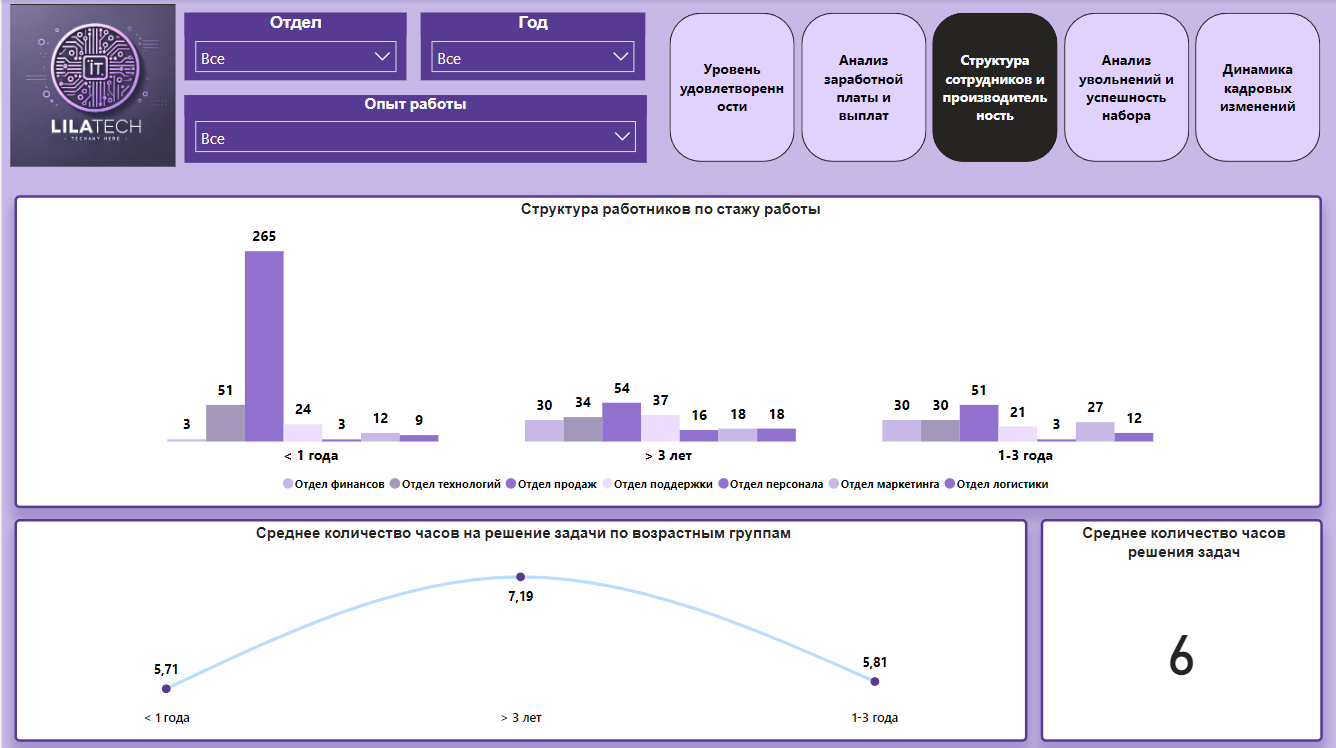

The page's visual inventory and layout, read from the dashboard file:
{"tool":"powerbi","page":{"name":"Структура сотрудников и производительность","canvas":[1280,720],"ordinal":2},"visuals":[{"type":"clusteredColumnChart","title":"Структура работников по стажу работы","fields":{"Category":["WorkExp.work experience"],"Y":["Sum(WorkExp.Quantity of pers)"],"Series":["WorkExp.Dept"]},"box":[12.5,188.8,1253.8,300],"z":0},{"type":"lineChart","title":"Среднее количество часов на решение задачи по возрастным группам","fields":{"Y2":["Avg(Salary.DoneTaskTime)"],"Category":["Salary.work experience"]},"box":[12.5,498.8,971.2,213.8],"z":1000},{"type":"card","title":"Среднее количество часов решения задач","fields":{"Values":["Avg(Salary.AverageDoneTaskTime)"]},"box":[996.2,498.8,270,213.8],"z":2000},{"type":"image","box":[0,0,175,166],"z":3000},{"type":"pageNavigator","box":[640,13.8,626.2,143.8],"z":4000},{"type":"slicer","title":"Отдел","fields":{"Values":["WorkExp.Dept"]},"box":[175,13,213,65],"z":5000},{"type":"slicer","title":"Год","fields":{"Values":["WorkExp.Year"]},"box":[401,13,215,65],"z":6000},{"type":"slicer","title":"Опыт работы","fields":{"Values":["WorkExp.work experience"]},"box":[175,92,443,65],"z":7000}]}

Visuals, with their boxes in screenshot pixels (x1, y1, x2, y2), scaled from the page's 1280x720 canvas onto the 1336x748 screenshot:
"Структура работников по стажу работы" clusteredColumnChart: <box>13,196,1322,508</box>
"Среднее количество часов на решение задачи по возрастным группам" lineChart: <box>13,518,1027,740</box>
"Среднее количество часов решения задач" card: <box>1040,518,1322,740</box>
image: <box>0,0,183,172</box>
pageNavigator: <box>668,14,1322,164</box>
"Отдел" slicer: <box>183,14,405,81</box>
"Год" slicer: <box>419,14,643,81</box>
"Опыт работы" slicer: <box>183,96,645,163</box>
